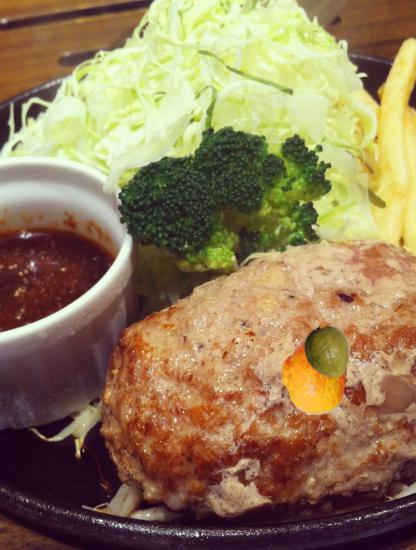Guava: (302, 326, 356, 380)
Mandarine: (274, 335, 355, 416)
